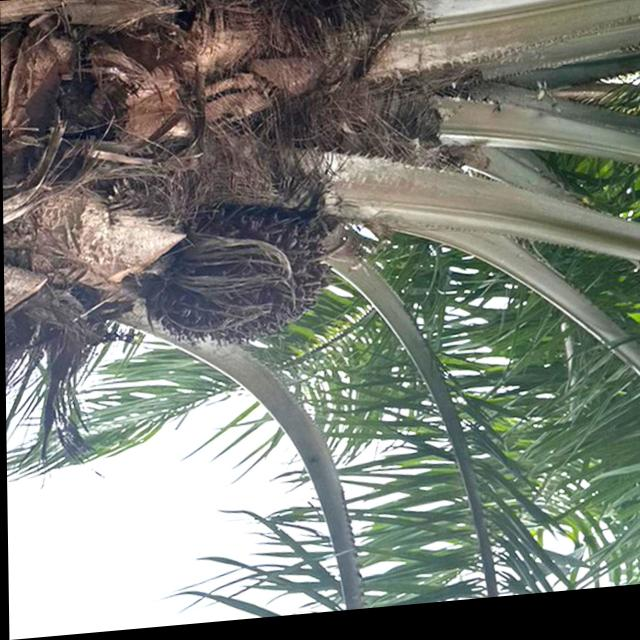ripe: (137, 182, 355, 371)
